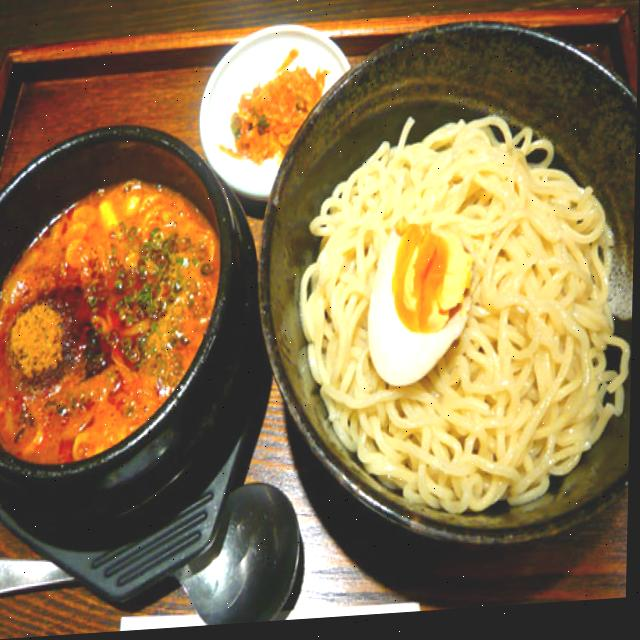面条主食: (0, 112, 630, 540)
